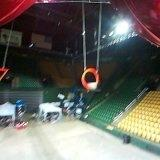Yellow_Circle_GShape: (81, 67, 99, 90)
